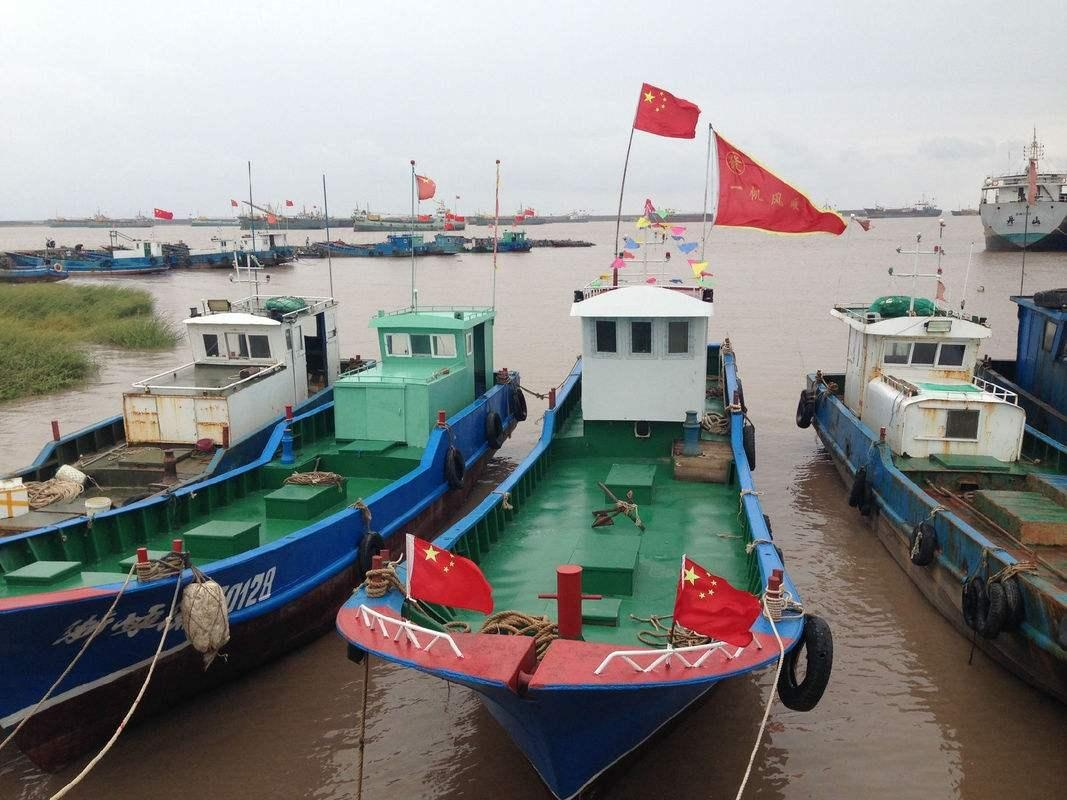otherboat: (345, 262, 830, 788), (1, 307, 515, 726), (784, 285, 1067, 679)
